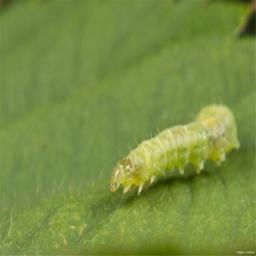Tobacco_budworm: (109, 102, 241, 197)
